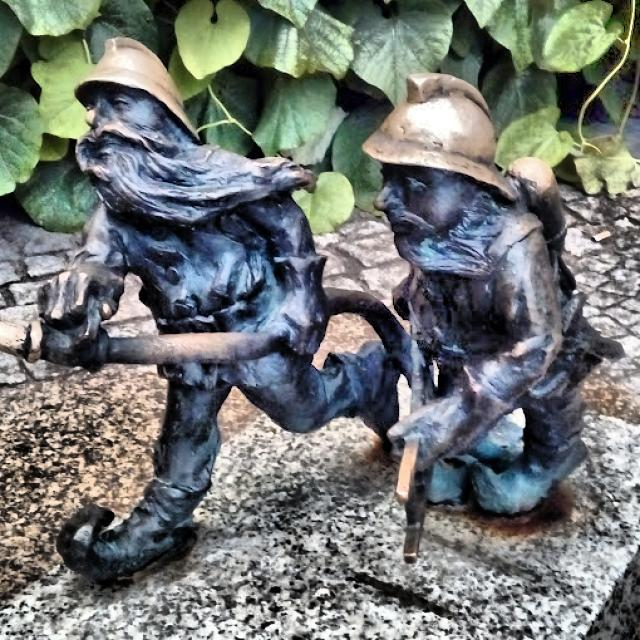Pozarki: (0, 39, 625, 584)
